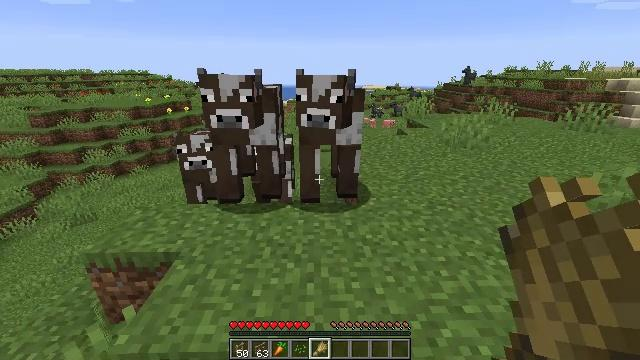cow: (202, 72, 283, 200), (297, 70, 365, 200), (177, 131, 218, 206)
pig: (364, 118, 378, 127), (383, 120, 395, 128)
